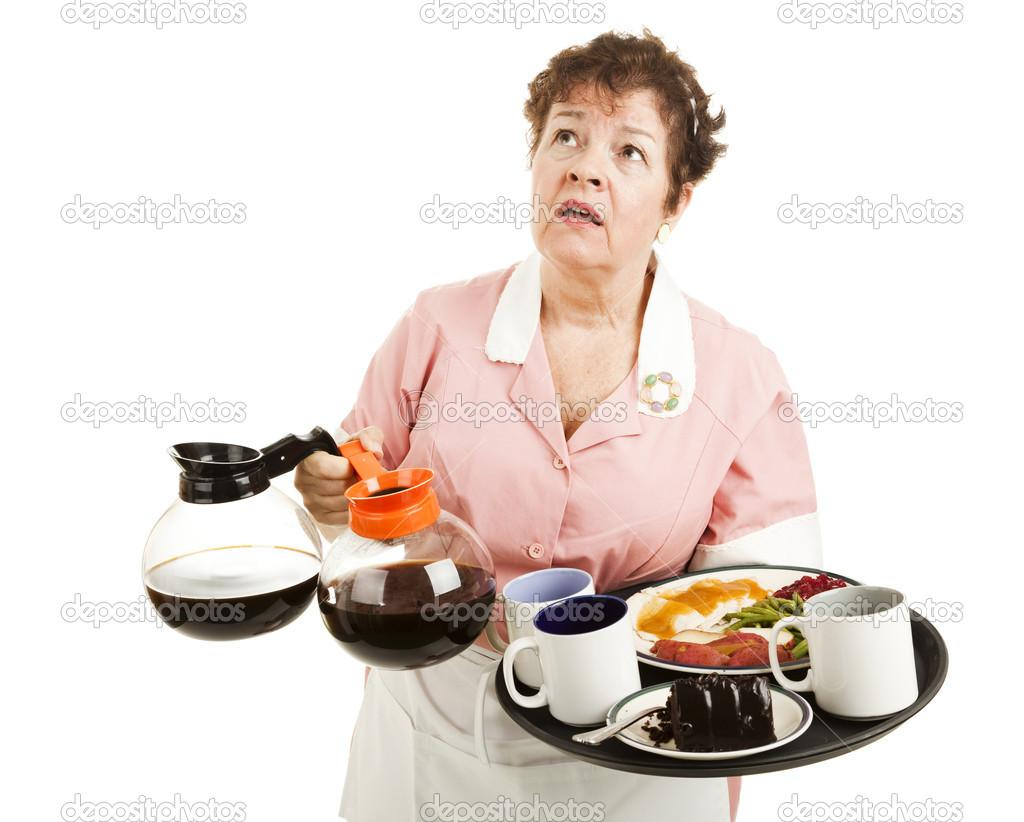face: (532, 78, 672, 264)
